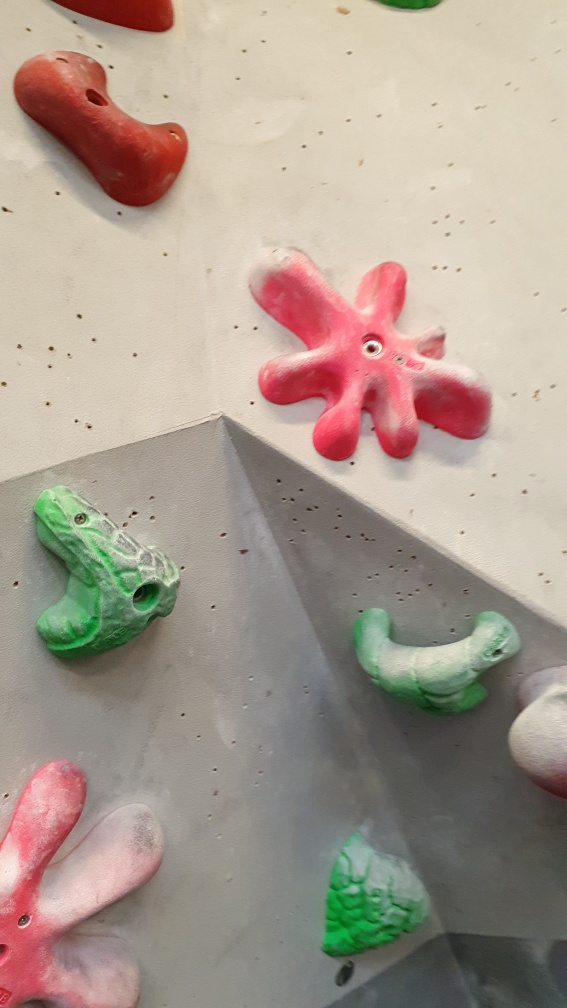Hand Start: (331, 955, 359, 988)
Jug: (351, 598, 526, 716), (319, 826, 435, 963)
Octopus Pinch: (250, 241, 496, 464), (1, 748, 166, 1006)
